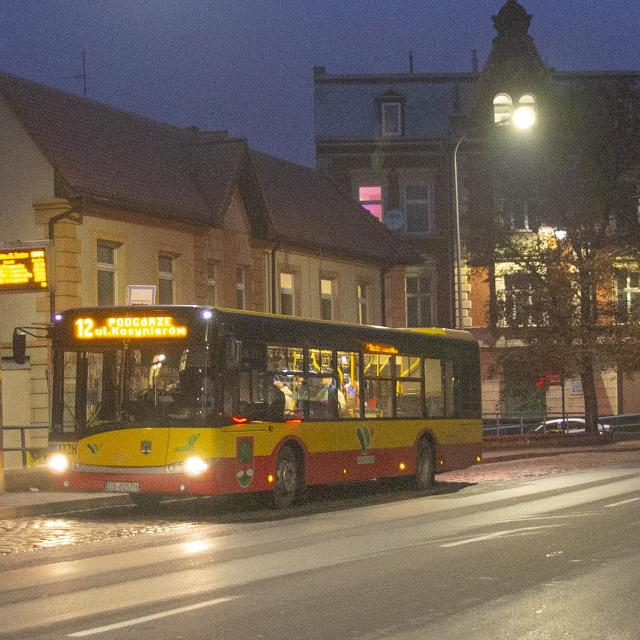Bus: (48, 306, 482, 508)
